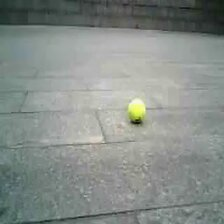tennis: (127, 100, 147, 121)
